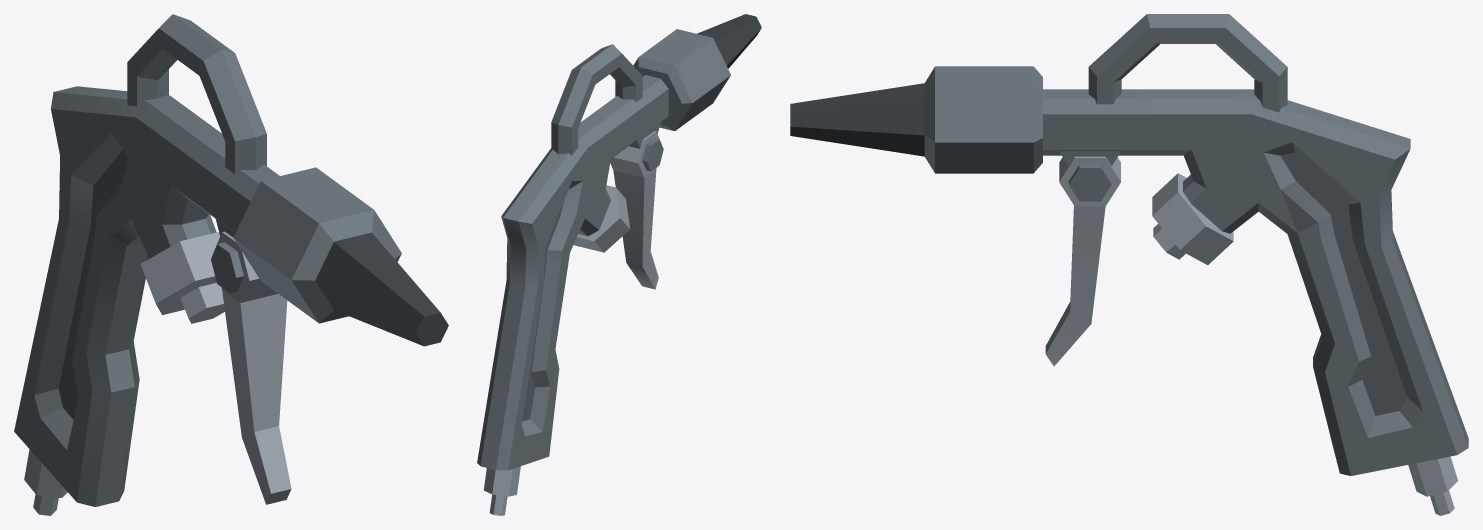
The model's file is SM_Prop_AirSprayer_02_Preset.fbx.
3 renders of one model, left to right at view 1: azimuth 30°, elevation 25°; view 2: azimuth 150°, elevation 25°; view 3: azimuth 270°, elevation 25°, orthographic. The views are drawn at different scales.
Visible parts, largest first — view 1: SM_Prop_AirSprayer_02_Preset; view 2: SM_Prop_AirSprayer_02_Preset; view 3: SM_Prop_AirSprayer_02_Preset.
Part boxes in pixels (x1,y1,x2,y2): SM_Prop_AirSprayer_02_Preset: (14, 14, 448, 515); SM_Prop_AirSprayer_02_Preset: (477, 14, 761, 515); SM_Prop_AirSprayer_02_Preset: (790, 14, 1468, 515).
Size of the model in its own units: 5.9 by 30.16 by 37.12.
